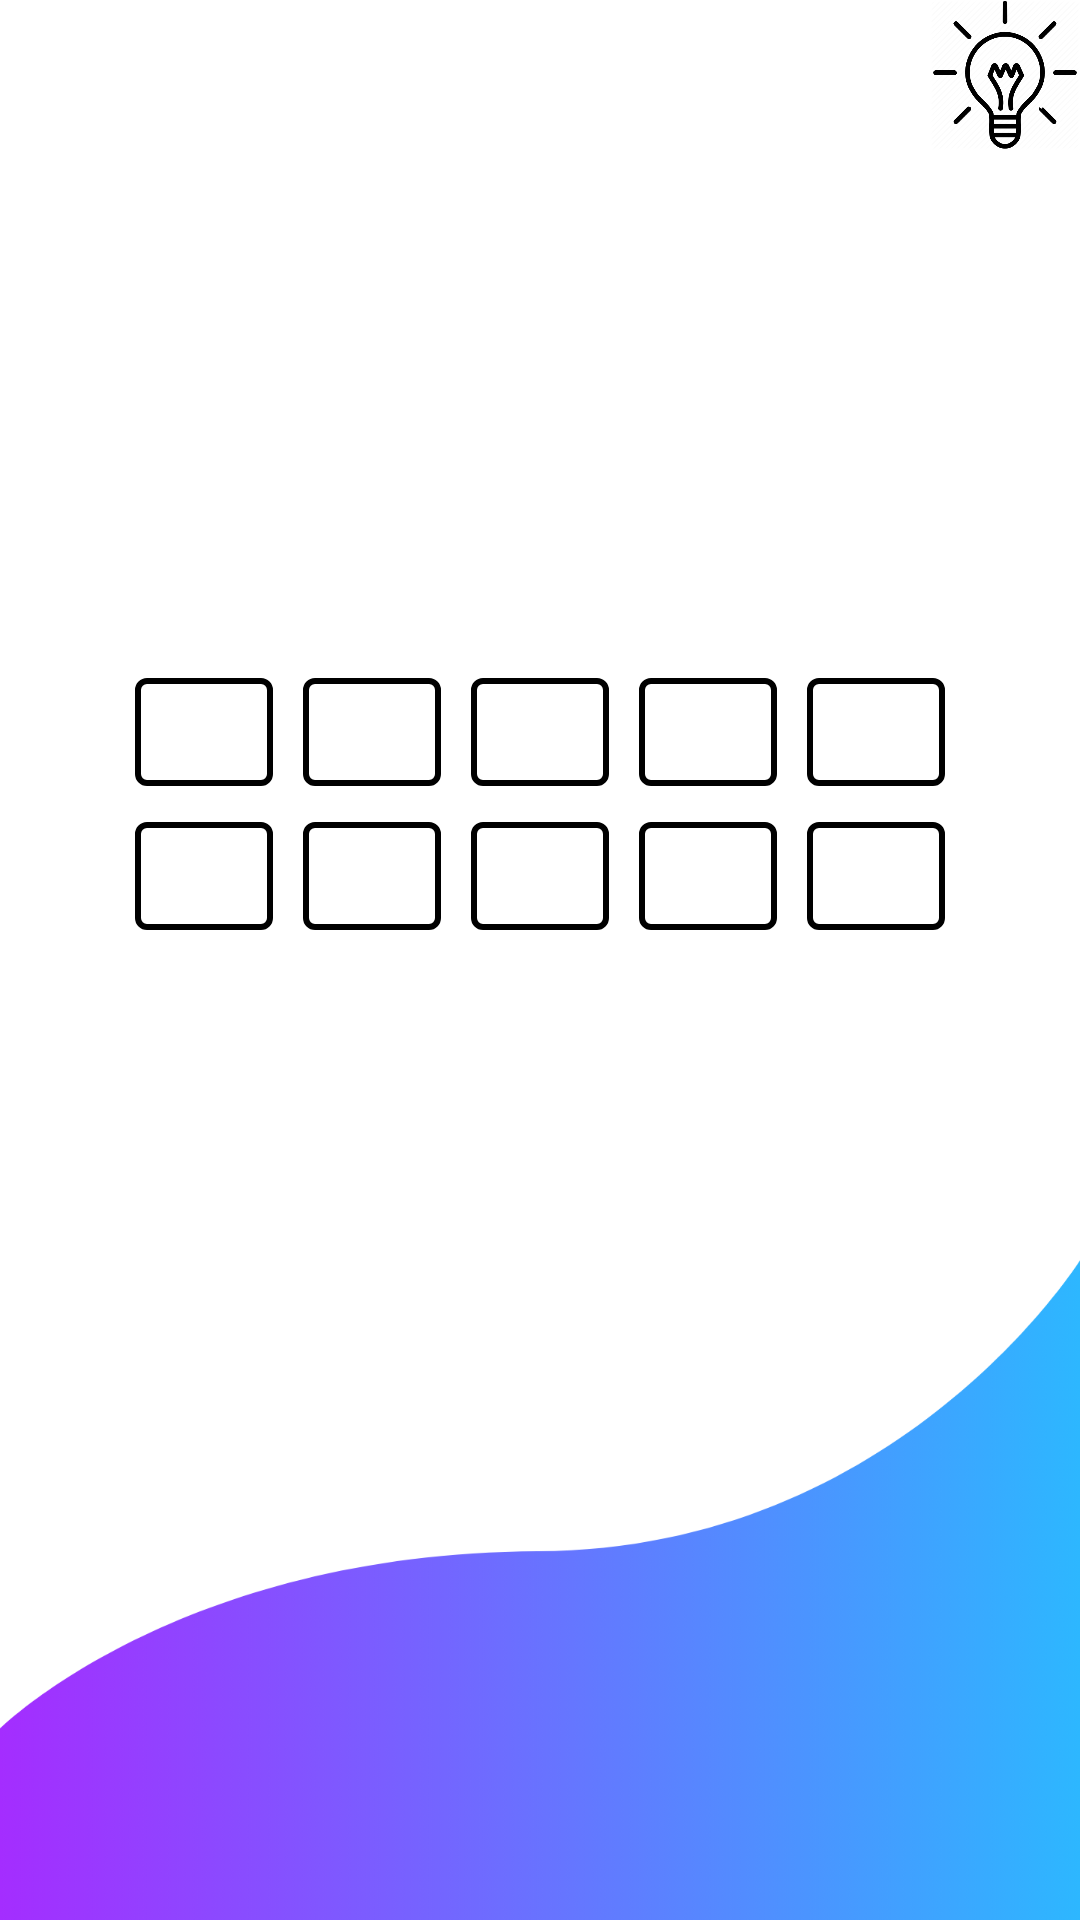

Where icons sit on this 1080 x 1920 app screen, as (x1, y1, x2, y2):
Dica: (933, 1, 1077, 149)
